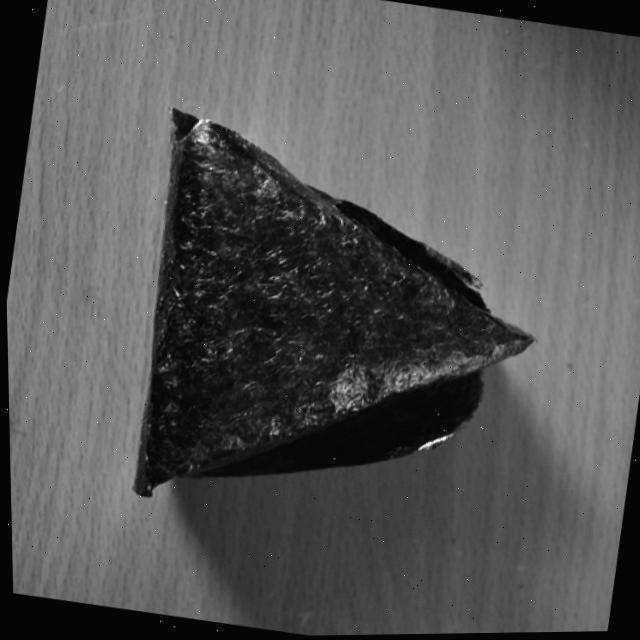米饭主食: (94, 91, 587, 572)
